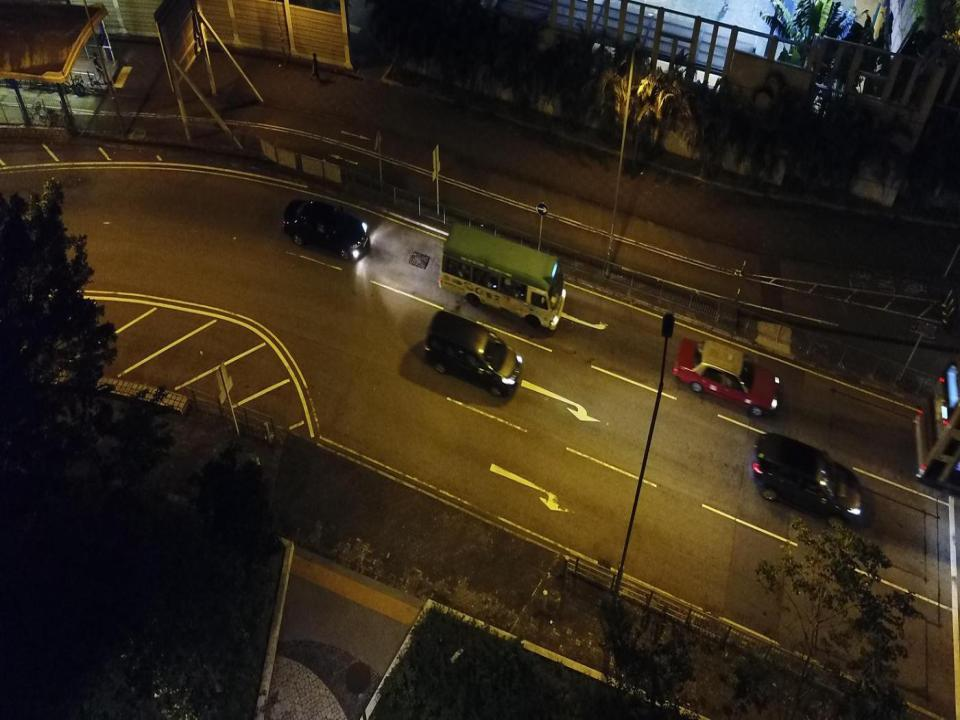bus: (439, 221, 566, 332)
car: (752, 432, 864, 531), (672, 337, 783, 419), (282, 199, 370, 262)
van: (424, 310, 524, 397)
